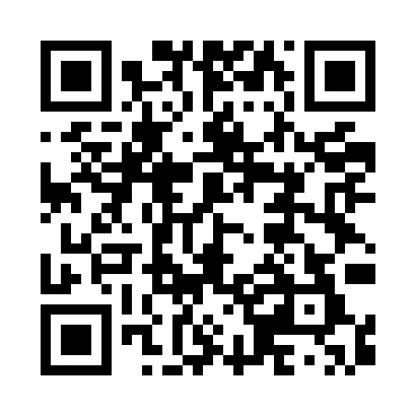qr: (35, 38, 380, 377)
